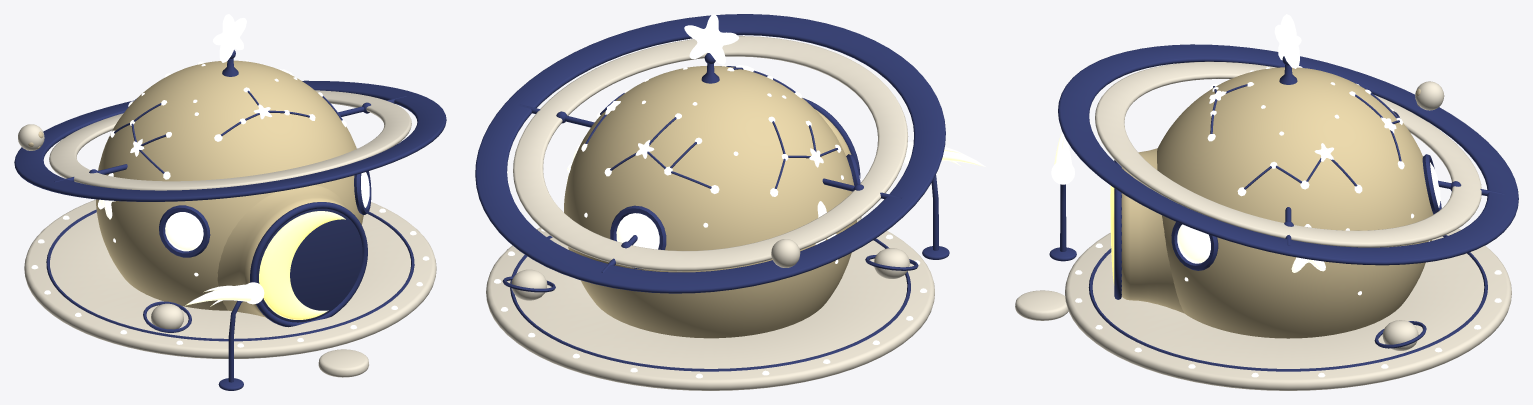
The model's file is house_07_0705.fbx.
The picture shows the model from 3 angles, left to right: view 1: azimuth 30°, elevation 25°; view 2: azimuth 150°, elevation 25°; view 3: azimuth 270°, elevation 25°; orthographic projection. The views are drawn at different scales.
Visible parts, largest first — view 1: House07_PlanetDome, House07_RingDeck_Engawa, House07_PlanetRing_Outer, House07_PlanetRing_Inner, House07_MoonDisc, House07_EntrancePod, House07_CrescentDoor, House07_MoonDiscRim, House07_DeckGoldInlay, House07_RoundWindows, House07_WindowRims, House07_MoonStep (+10 smaller); view 2: House07_PlanetDome, House07_RingDeck_Engawa, House07_PlanetRing_Outer, House07_PlanetRing_Inner, House07_DeckGoldInlay, House07_PlanetStools, House07_TopStar, House07_ConstellationLines, House07_RoundWindows, House07_WindowRims, House07_RingSupports, House07_ConstellationDots (+6 smaller); view 3: House07_PlanetDome, House07_RingDeck_Engawa, House07_PlanetRing_Outer, House07_PlanetRing_Inner, House07_EntrancePod, House07_DeckGoldInlay, House07_MoonStep, House07_RoundWindows, House07_WindowRims, House07_TopStar, House07_MoonDiscRim, House07_ConstellationLines (+6 smaller).
Boxes of the visible parts, bbox=[...] form: House07_PlanetDome: bbox=[96, 60, 363, 310]; House07_RingDeck_Engawa: bbox=[24, 199, 436, 358]; House07_PlanetRing_Outer: bbox=[14, 80, 446, 201]; House07_PlanetRing_Inner: bbox=[49, 90, 411, 190]; House07_MoonDisc: bbox=[257, 208, 362, 322]; House07_EntrancePod: bbox=[217, 185, 347, 318]; House07_CrescentDoor: bbox=[259, 211, 345, 319]; House07_MoonDiscRim: bbox=[250, 202, 367, 327]; House07_DeckGoldInlay: bbox=[46, 209, 414, 341]; House07_RoundWindows: bbox=[165, 172, 369, 251]; House07_WindowRims: bbox=[159, 171, 371, 257]; House07_MoonStep: bbox=[318, 349, 368, 377]; House07_PlanetDome: bbox=[564, 66, 856, 338]; House07_RingDeck_Engawa: bbox=[486, 218, 934, 390]; House07_PlanetRing_Outer: bbox=[475, 14, 945, 293]; House07_PlanetRing_Inner: bbox=[513, 36, 908, 271]; House07_DeckGoldInlay: bbox=[510, 235, 910, 371]; House07_PlanetStools: bbox=[511, 248, 909, 300]; House07_TopStar: bbox=[684, 14, 738, 64]; House07_ConstellationLines: bbox=[585, 66, 837, 188]; House07_RoundWindows: bbox=[616, 175, 860, 249]; House07_WindowRims: bbox=[610, 154, 860, 269]; House07_RingSupports: bbox=[518, 104, 902, 272]; House07_ConstellationDots: bbox=[568, 65, 843, 263]; House07_PlanetDome: bbox=[1157, 67, 1433, 338]; House07_RingDeck_Engawa: bbox=[1065, 228, 1511, 390]; House07_PlanetRing_Outer: bbox=[1058, 44, 1518, 265]; House07_PlanetRing_Inner: bbox=[1095, 61, 1481, 247]; House07_EntrancePod: bbox=[1121, 148, 1184, 313]; House07_DeckGoldInlay: bbox=[1088, 235, 1487, 371]; House07_MoonStep: bbox=[1015, 290, 1068, 320]; House07_RoundWindows: bbox=[1177, 162, 1440, 263]; House07_WindowRims: bbox=[1171, 154, 1441, 270]; House07_TopStar: bbox=[1274, 14, 1301, 68]; House07_MoonDiscRim: bbox=[1114, 160, 1121, 299]; House07_ConstellationLines: bbox=[1210, 84, 1401, 189].
Bounding box in the file's own units: 5.48 × 3.79 × 5.86.
